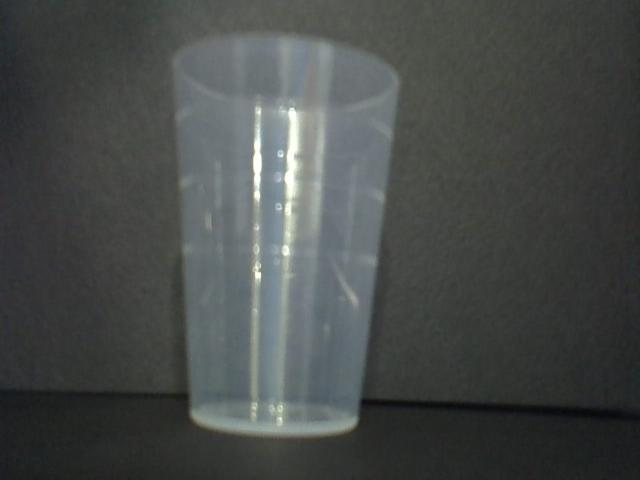cup: (167, 30, 400, 439)
